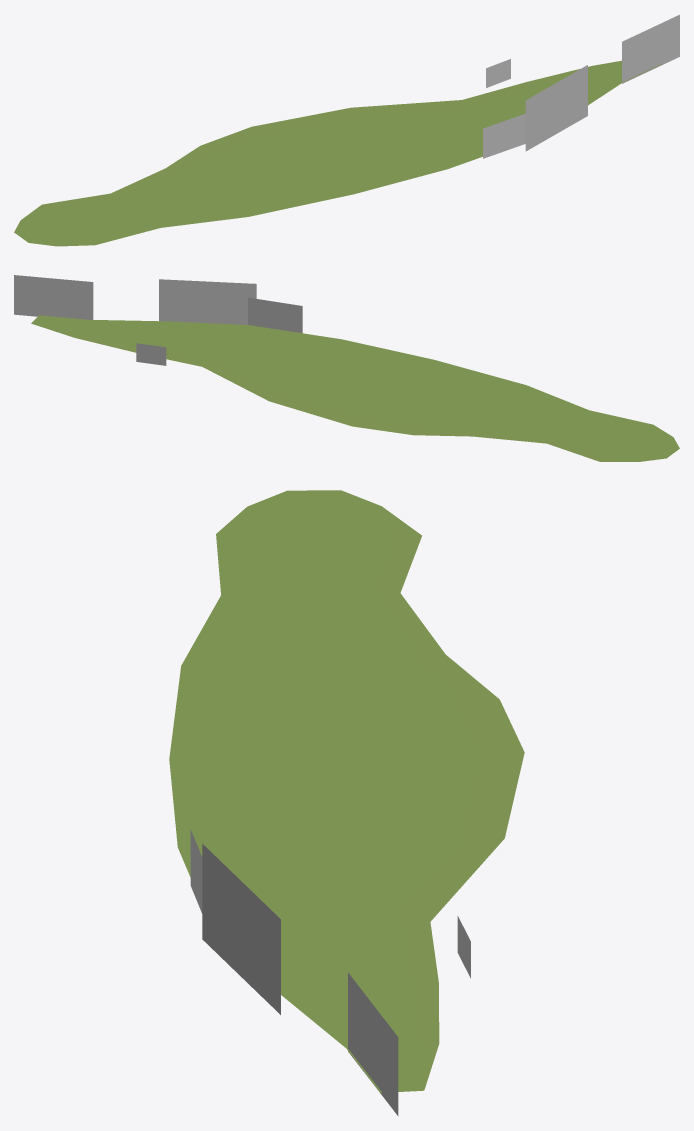
The model's file is Mesh_Battle_Forest_Ground_09.FBX.
The picture shows the model from 3 angles, top to bottom: view 1: azimuth 30°, elevation 25°; view 2: azimuth 150°, elevation 25°; view 3: azimuth 270°, elevation 25°; orthographic projection. The views are drawn at different scales.
Parts seen in each view (by area): view 1: Mesh_Battle_Forest_Ground_09, Mesh_Battle_Forest_Grass_11; view 2: Mesh_Battle_Forest_Ground_09, Mesh_Battle_Forest_Grass_11; view 3: Mesh_Battle_Forest_Ground_09, Mesh_Battle_Forest_Grass_11.
Part boxes in pixels (x1,y1,x2,y2): Mesh_Battle_Forest_Ground_09: (14,60,661,246); Mesh_Battle_Forest_Grass_11: (483,14,679,158); Mesh_Battle_Forest_Ground_09: (31,315,679,461); Mesh_Battle_Forest_Grass_11: (14,275,302,365); Mesh_Battle_Forest_Ground_09: (169,490,524,1092); Mesh_Battle_Forest_Grass_11: (190,829,470,1115).
Size of the model in its own units: 220 by 15.8 by 53.04.
